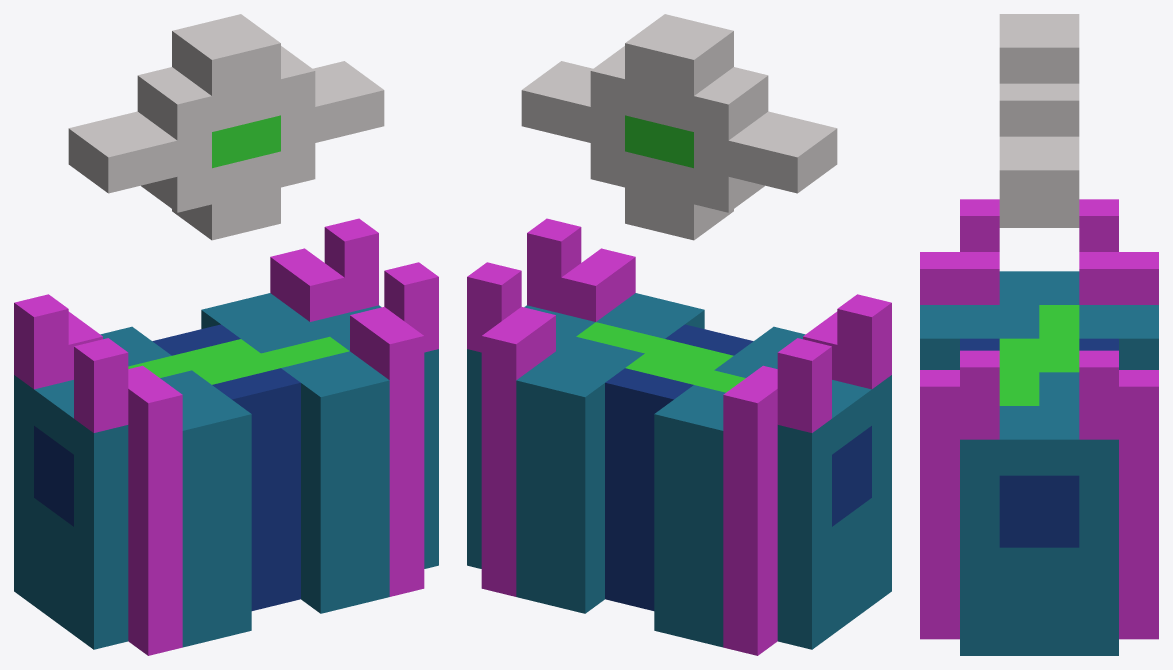
File: Eye.glb
3 views of the same model, side by side, from view 1: azimuth 30°, elevation 25°; view 2: azimuth 150°, elevation 25°; view 3: azimuth 270°, elevation 25° (orthographic).
Visible parts, largest first — view 1: VoxelModel; view 2: VoxelModel; view 3: VoxelModel.
Boxes of the visible parts, x1,y1,x2,y2 form: VoxelModel: [14, 14, 438, 655]; VoxelModel: [467, 14, 891, 655]; VoxelModel: [920, 14, 1158, 655].
Bounding box in the file's own units: 10 × 15 × 6.
